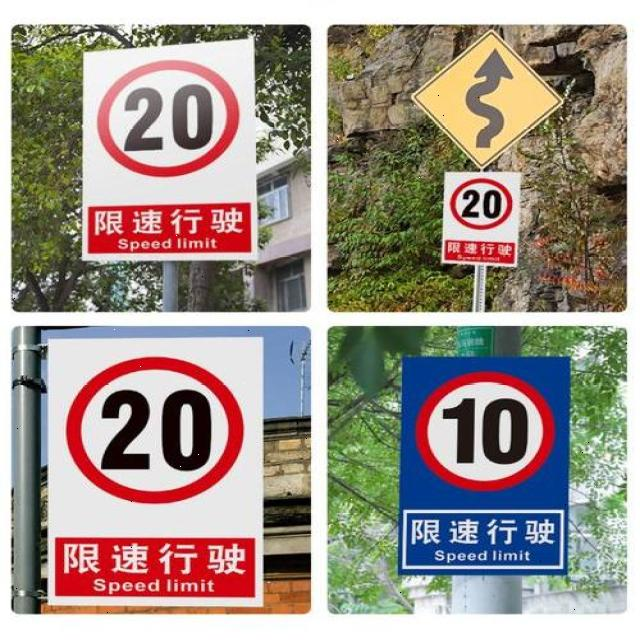speed limit 10: (416, 372, 556, 493)
speed limit 20: (61, 355, 245, 506), (93, 60, 242, 180), (448, 177, 516, 232)
